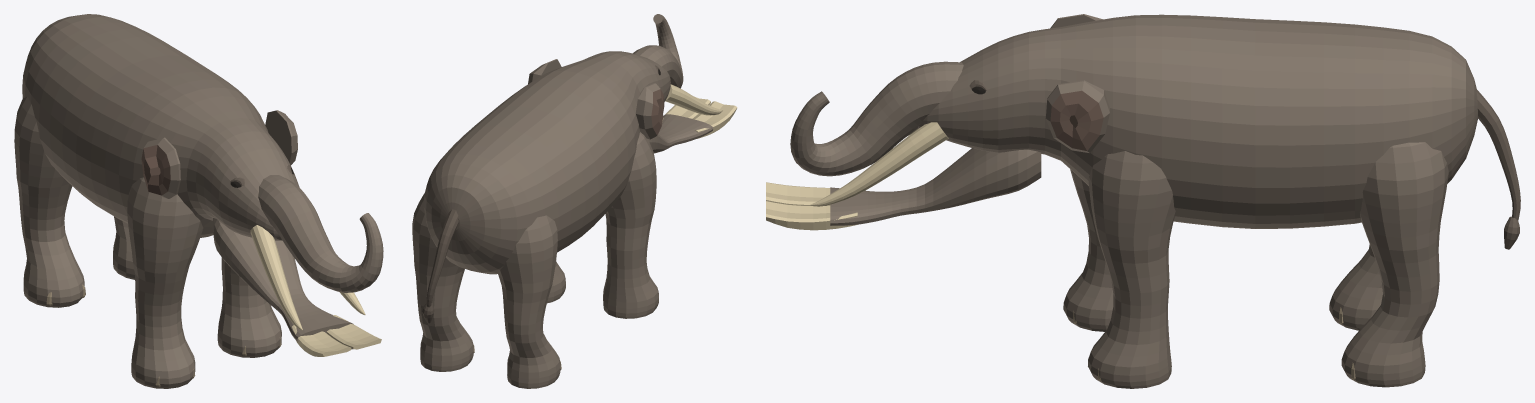
The picture shows the model from 3 angles, left to right: view 1: azimuth 30°, elevation 25°; view 2: azimuth 150°, elevation 25°; view 3: azimuth 270°, elevation 25°; orthographic projection. The views are drawn at different scales.
Parts seen in each view (by area): view 1: body-cranium-rostrum, fore-left, hind-left, flexible-trunk, mandible-waist-and-platform, fore-right, ear-left, upper-tusk-left, ear-right, hind-right, lower-tusk-left, lower-tusk-right; view 2: body-cranium-rostrum, hind-left, fore-left, hind-right, flexible-trunk, mandible-waist-and-platform, ear-left, tail-and-tuft, upper-tusk-left, lower-tusk-left, fore-right, ear-right (+1 smaller); view 3: body-cranium-rostrum, hind-right, fore-right, flexible-trunk, mandible-waist-and-platform, fore-left, ear-right, upper-tusk-right, hind-left, tail-and-tuft, lower-tusk-right, lower-tusk-left.
Boxes of the visible parts, bbox=[...] form: body-cranium-rostrum: bbox=[22, 14, 299, 240]; fore-left: bbox=[127, 177, 203, 388]; hind-left: bbox=[14, 96, 84, 307]; flexible-trunk: bbox=[258, 175, 383, 292]; mandible-waist-and-platform: bbox=[212, 218, 353, 342]; fore-right: bbox=[217, 257, 281, 357]; ear-left: bbox=[141, 137, 180, 198]; upper-tusk-left: bbox=[250, 225, 302, 330]; ear-right: bbox=[265, 110, 297, 165]; hind-right: bbox=[113, 216, 134, 279]; lower-tusk-left: bbox=[292, 325, 351, 356]; lower-tusk-right: bbox=[326, 315, 381, 349]; body-cranium-rostrum: bbox=[423, 51, 670, 274]; hind-left: bbox=[497, 215, 560, 388]; fore-left: bbox=[603, 132, 658, 318]; hind-right: bbox=[412, 193, 473, 371]; flexible-trunk: bbox=[633, 14, 683, 88]; mandible-waist-and-platform: bbox=[648, 114, 713, 153]; ear-left: bbox=[635, 83, 664, 139]; tail-and-tuft: bbox=[422, 209, 458, 323]; upper-tusk-left: bbox=[665, 84, 722, 115]; lower-tusk-left: bbox=[694, 101, 737, 138]; fore-right: bbox=[547, 261, 565, 303]; ear-right: bbox=[528, 59, 561, 83]; body-cranium-rostrum: bbox=[918, 14, 1477, 228]; hind-right: bbox=[1341, 142, 1448, 387]; fore-right: bbox=[1088, 151, 1175, 388]; flexible-trunk: bbox=[790, 61, 963, 176]; mandible-waist-and-platform: bbox=[830, 148, 1041, 225]; fore-left: bbox=[1063, 169, 1113, 331]; ear-right: bbox=[1045, 80, 1109, 152]; upper-tusk-right: bbox=[810, 122, 948, 206]; hind-left: bbox=[1329, 244, 1382, 330]; tail-and-tuft: bbox=[1476, 89, 1520, 249]; lower-tusk-right: bbox=[766, 201, 857, 230]; lower-tusk-left: bbox=[766, 182, 830, 205].
Bounding box in the file's own units: 1.38 × 2.31 × 4.94.
